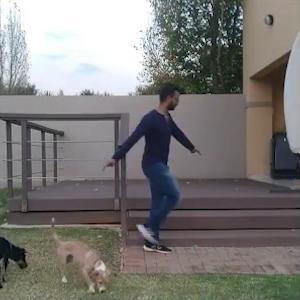land: (84, 79, 201, 249)
